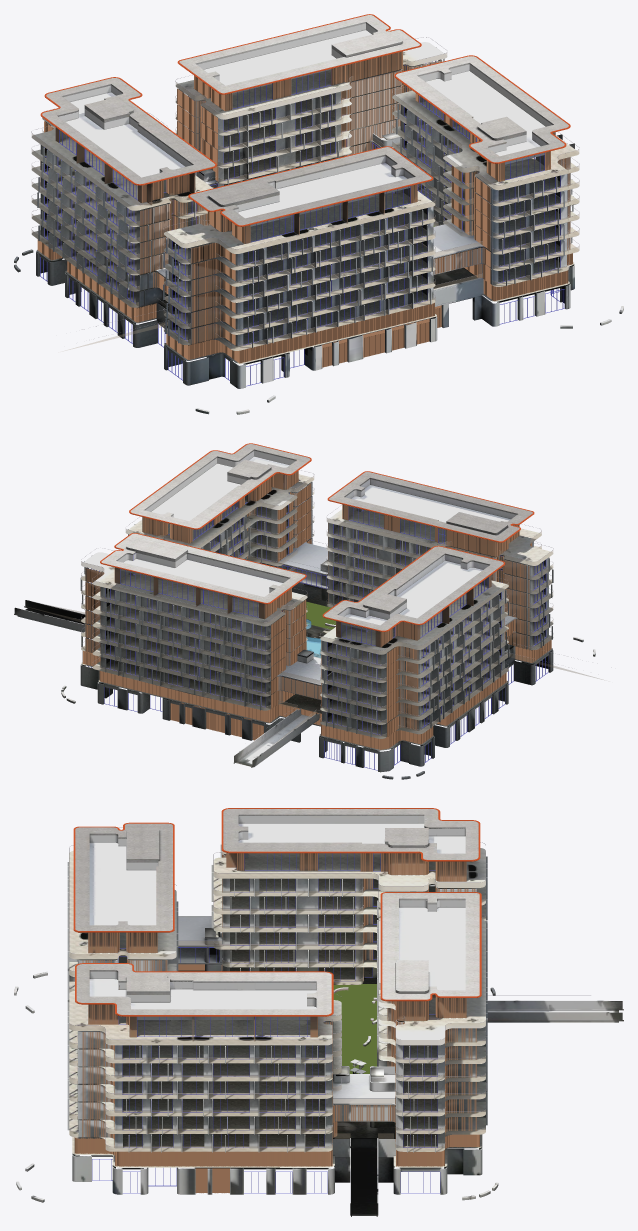
File: MAG_11_build_B_1.glb
The picture shows the model from 3 angles, top to bottom: view 1: azimuth 30°, elevation 25°; view 2: azimuth 150°, elevation 25°; view 3: azimuth 270°, elevation 25°; orthographic projection. The views are drawn at different scales.
Parts seen in each view (by area): view 1: B_Build_1; view 2: B_Build_1; view 3: B_Build_1.
Part boxes in pixels (x1=…): B_Build_1: x1=14, y1=14, x2=623, y2=414; B_Build_1: x1=14, y1=443, x2=601, y2=779; B_Build_1: x1=14, y1=808, x2=623, y2=1216.
Size of the model in its own units: 165 by 42.6 by 131.
Materials: 9 (3 with a texture image).
